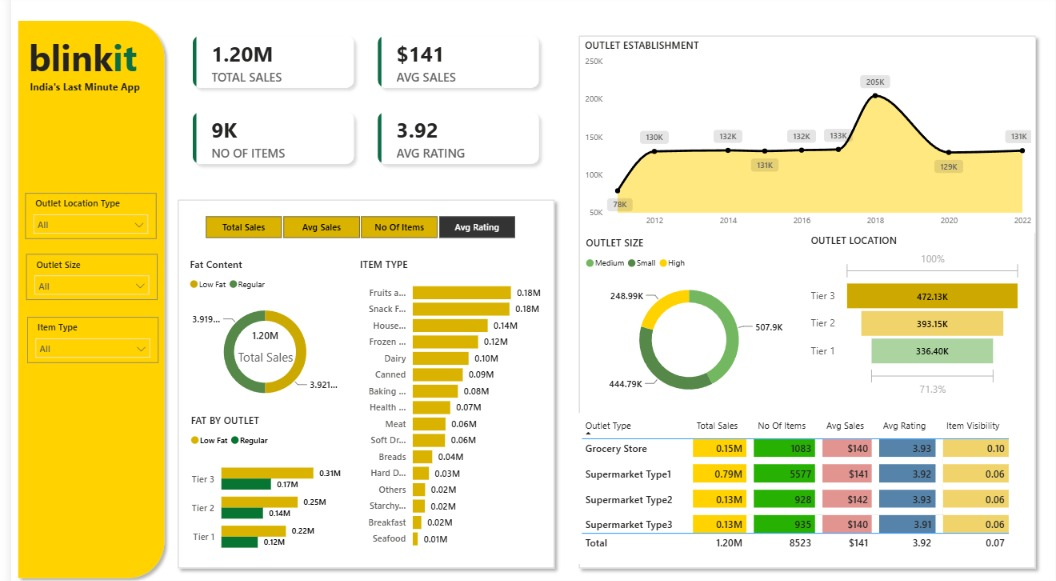

What the dashboard file says about the page in this screenshot:
{"tool":"powerbi","page":{"name":"Page 1","canvas":[1400,800],"ordinal":0},"visuals":[{"type":"shape","box":[0,24.1,214.5,765.4],"z":0},{"type":"textbox","box":[257.7,702.9,205,96.7],"z":1000},{"type":"textbox","box":[14.7,44.2,162.2,77.7],"z":2000},{"type":"textbox","box":[20.1,107.2,170.2,30.8],"z":3000},{"type":"cardVisual","fields":{"Data":["BlinkIT Grocery Data.Total Sales","BlinkIT Grocery Data.Avg Sales","BlinkIT Grocery Data.No Of Items","BlinkIT Grocery Data.Avg Rating"]},"box":[214.5,24.1,522.8,230.6],"z":4000},{"type":"shape","box":[214.5,264.1,522.8,512.1],"z":5000},{"type":"donutChart","title":"Fat Content","fields":{"Y":["BlinkIT Grocery Data.Avg Rating"],"Category":["BlinkIT Grocery Data.Item Fat Content"]},"box":[234.6,349.9,211.8,209.1],"z":6000},{"type":"slicer","fields":{"Values":["Metrics.Metrics"]},"box":[234.6,288.2,465.1,42.9],"z":7000},{"type":"card","fields":{"Values":["BlinkIT Grocery Data.Total Sales"]},"box":[293.6,438.3,95.2,60.3],"z":8000},{"type":"clusteredBarChart","title":"FAT BY OUTLET","fields":{"Y":["BlinkIT Grocery Data.Total Sales"],"Category":["BlinkIT Grocery Data.Outlet Location Type"],"Series":["BlinkIT Grocery Data.Item Fat Content"]},"box":[235.9,559,211.8,202.4],"z":9000},{"type":"barChart","title":"ITEM TYPE","fields":{"Category":["BlinkIT Grocery Data.Item Type"],"Y":["BlinkIT Grocery Data.Total Sales"]},"box":[462.5,349.9,253.4,400.8],"z":10000},{"type":"shape","box":[752,44.2,630,731.9],"z":11000},{"type":"lineChart","title":"OUTLET ESTABLISHMENT","fields":{"Y":["BlinkIT Grocery Data.Total Sales"],"Category":["BlinkIT Grocery Data.Outlet Establishment Year"]},"box":[764.1,56.3,608.6,261.4],"z":12000},{"type":"donutChart","title":"OUTLET SIZE","fields":{"Y":["BlinkIT Grocery Data.Total Sales"],"Category":["BlinkIT Grocery Data.Outlet Size"]},"box":[765.4,321.7,286.9,233.2],"z":13000},{"type":"funnel","title":" OUTLET LOCATION","fields":{"Y":["Sum(BlinkIT Grocery Data.Sales)"],"Category":["BlinkIT Grocery Data.Outlet Location Type"]},"box":[1067,317.7,292.2,225.2],"z":14000},{"type":"tableEx","fields":{"Values":["BlinkIT Grocery Data.Outlet Type","BlinkIT Grocery Data.Total Sales","BlinkIT Grocery Data.No Of Items","BlinkIT Grocery Data.Avg Sales","BlinkIT Grocery Data.Avg Rating","Avg(BlinkIT Grocery Data.Item Visibility)"]},"box":[758.7,559,585.8,202.4],"z":15000},{"type":"slicer","fields":{"Values":["BlinkIT Grocery Data.Outlet Location Type"]},"box":[18.8,264.1,175.6,61.7],"z":15001},{"type":"slicer","fields":{"Values":["BlinkIT Grocery Data.Outlet Size"]},"box":[20.1,345.8,175.6,61.7],"z":15002},{"type":"slicer","fields":{"Values":["BlinkIT Grocery Data.Item Type"]},"box":[21.4,430.3,175.6,61.7],"z":15003}]}

Visuals, with their boxes on the page's 1400x800 design canvas (x1, y1, x2, y2). These are canvas units, not pixel positions in the 1056x581 screenshot, which may show the page scaled, cropped or inside an application window:
shape: select_region(0, 24, 214, 790)
textbox: select_region(258, 703, 463, 800)
textbox: select_region(15, 44, 177, 122)
textbox: select_region(20, 107, 190, 138)
cardVisual - BlinkIT Grocery Data.Total Sales x BlinkIT Grocery Data.Avg Sales: select_region(214, 24, 737, 255)
shape: select_region(214, 264, 737, 776)
"Fat Content" donutChart: select_region(235, 350, 446, 559)
slicer - Metrics.Metrics: select_region(235, 288, 700, 331)
card - BlinkIT Grocery Data.Total Sales: select_region(294, 438, 389, 499)
"FAT BY OUTLET" clusteredBarChart: select_region(236, 559, 448, 761)
"ITEM TYPE" barChart: select_region(462, 350, 716, 751)
shape: select_region(752, 44, 1382, 776)
"OUTLET ESTABLISHMENT" lineChart: select_region(764, 56, 1373, 318)
"OUTLET SIZE" donutChart: select_region(765, 322, 1052, 555)
" OUTLET LOCATION" funnel: select_region(1067, 318, 1359, 543)
tableEx - BlinkIT Grocery Data.Outlet Type x BlinkIT Grocery Data.Total Sales: select_region(759, 559, 1344, 761)
slicer - BlinkIT Grocery Data.Outlet Location Type: select_region(19, 264, 194, 326)
slicer - BlinkIT Grocery Data.Outlet Size: select_region(20, 346, 196, 408)
slicer - BlinkIT Grocery Data.Item Type: select_region(21, 430, 197, 492)
